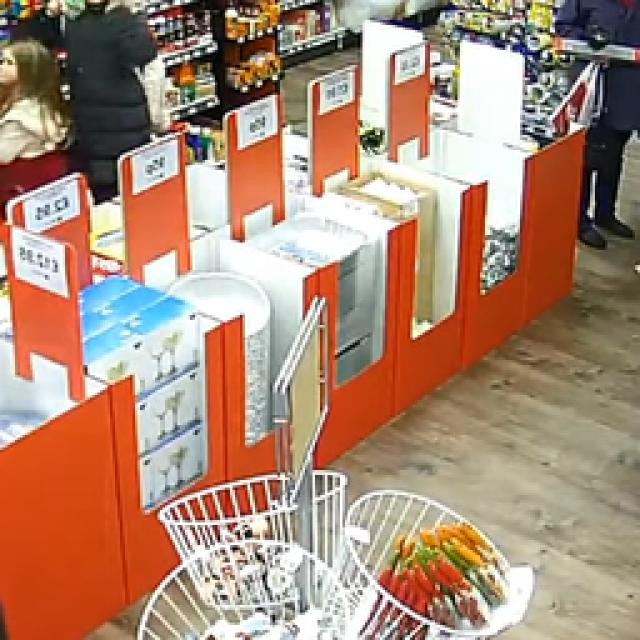person: (0, 40, 67, 217), (578, 60, 639, 249), (0, 603, 9, 639)
